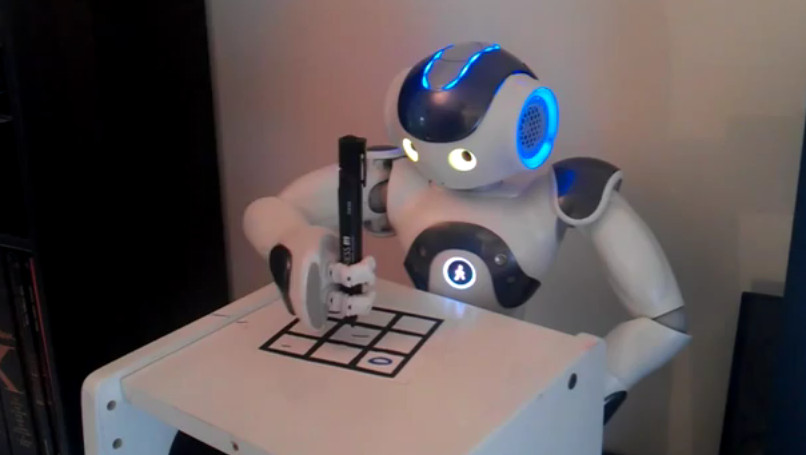nao: (224, 21, 703, 424)
